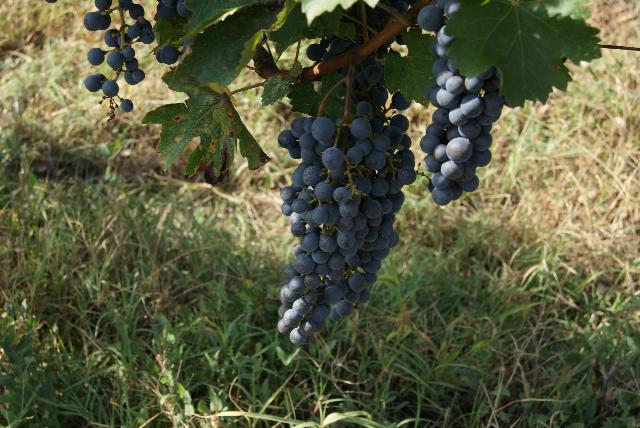grapes: (278, 100, 416, 345), (418, 0, 505, 205)
